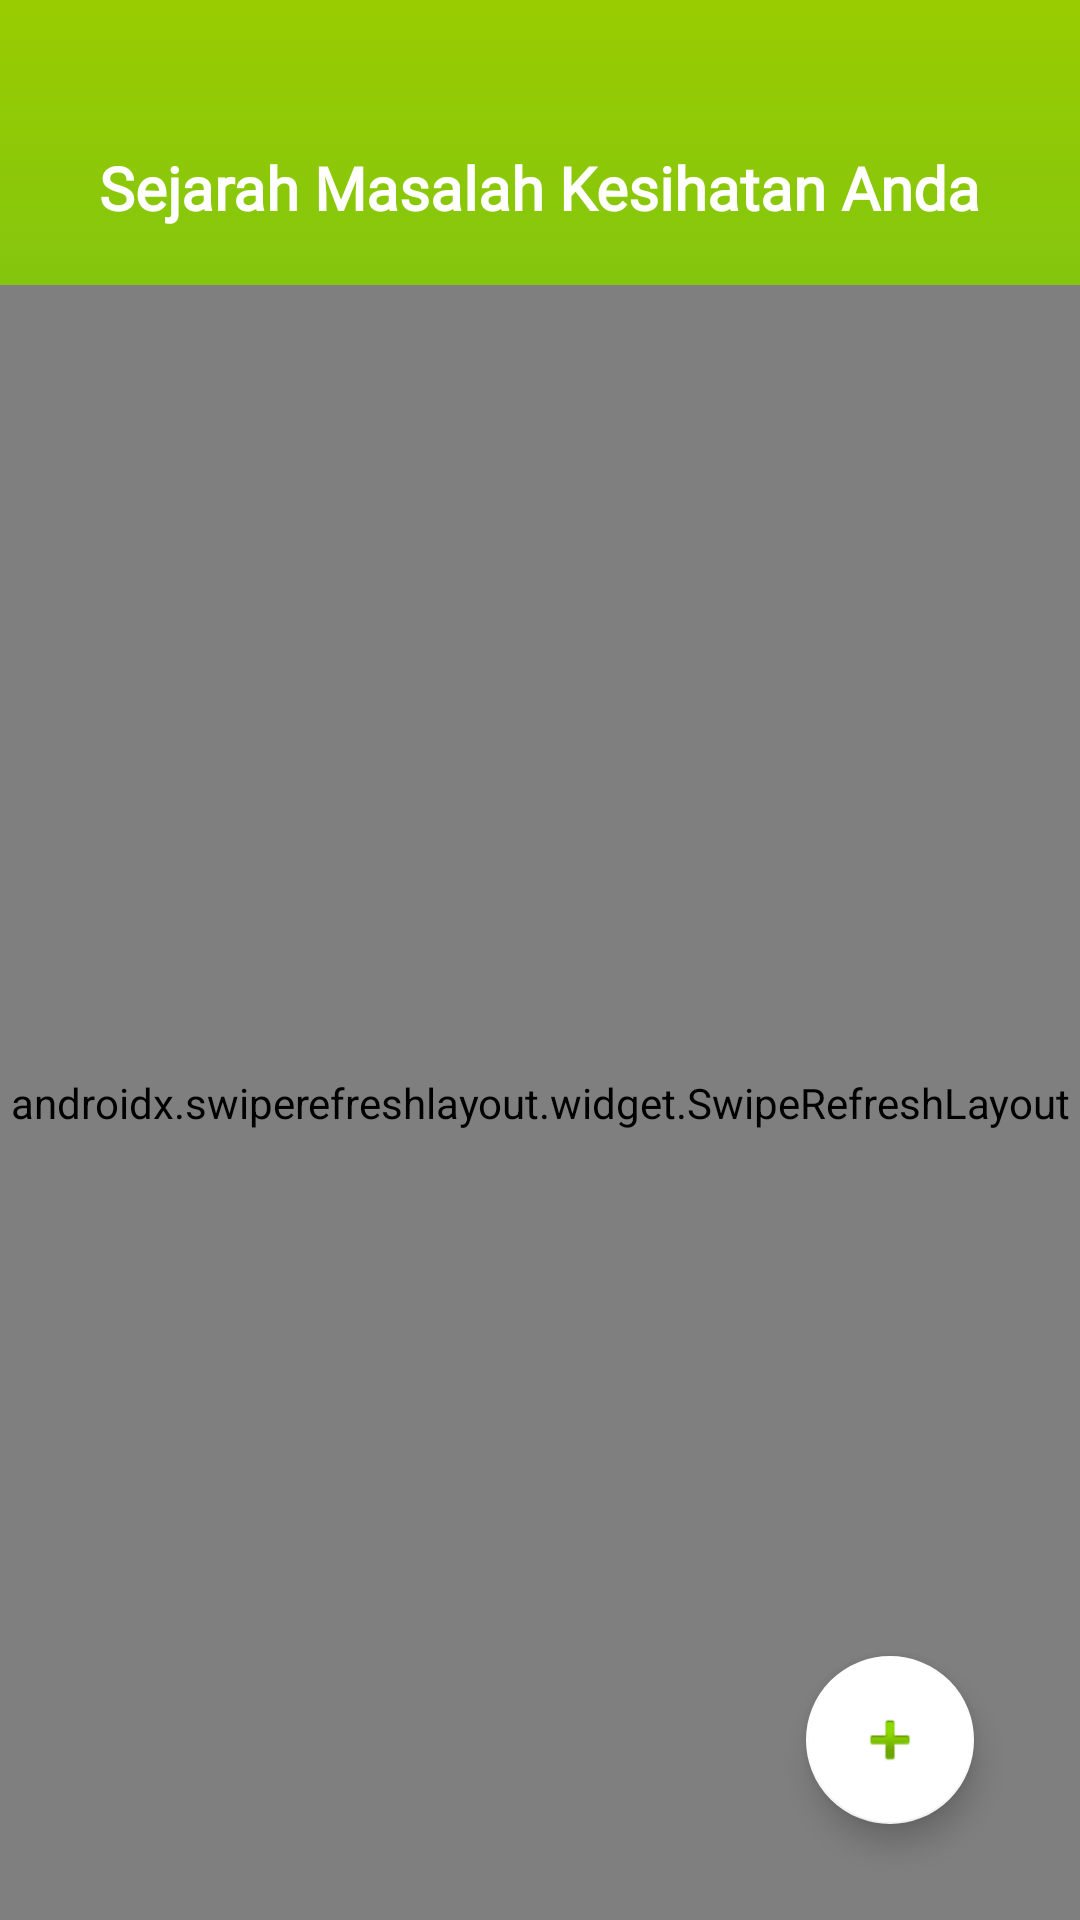

Icon click points for this 1080 x 1920 phone screenshot, format point (x, y):
add: point (890, 1740)
